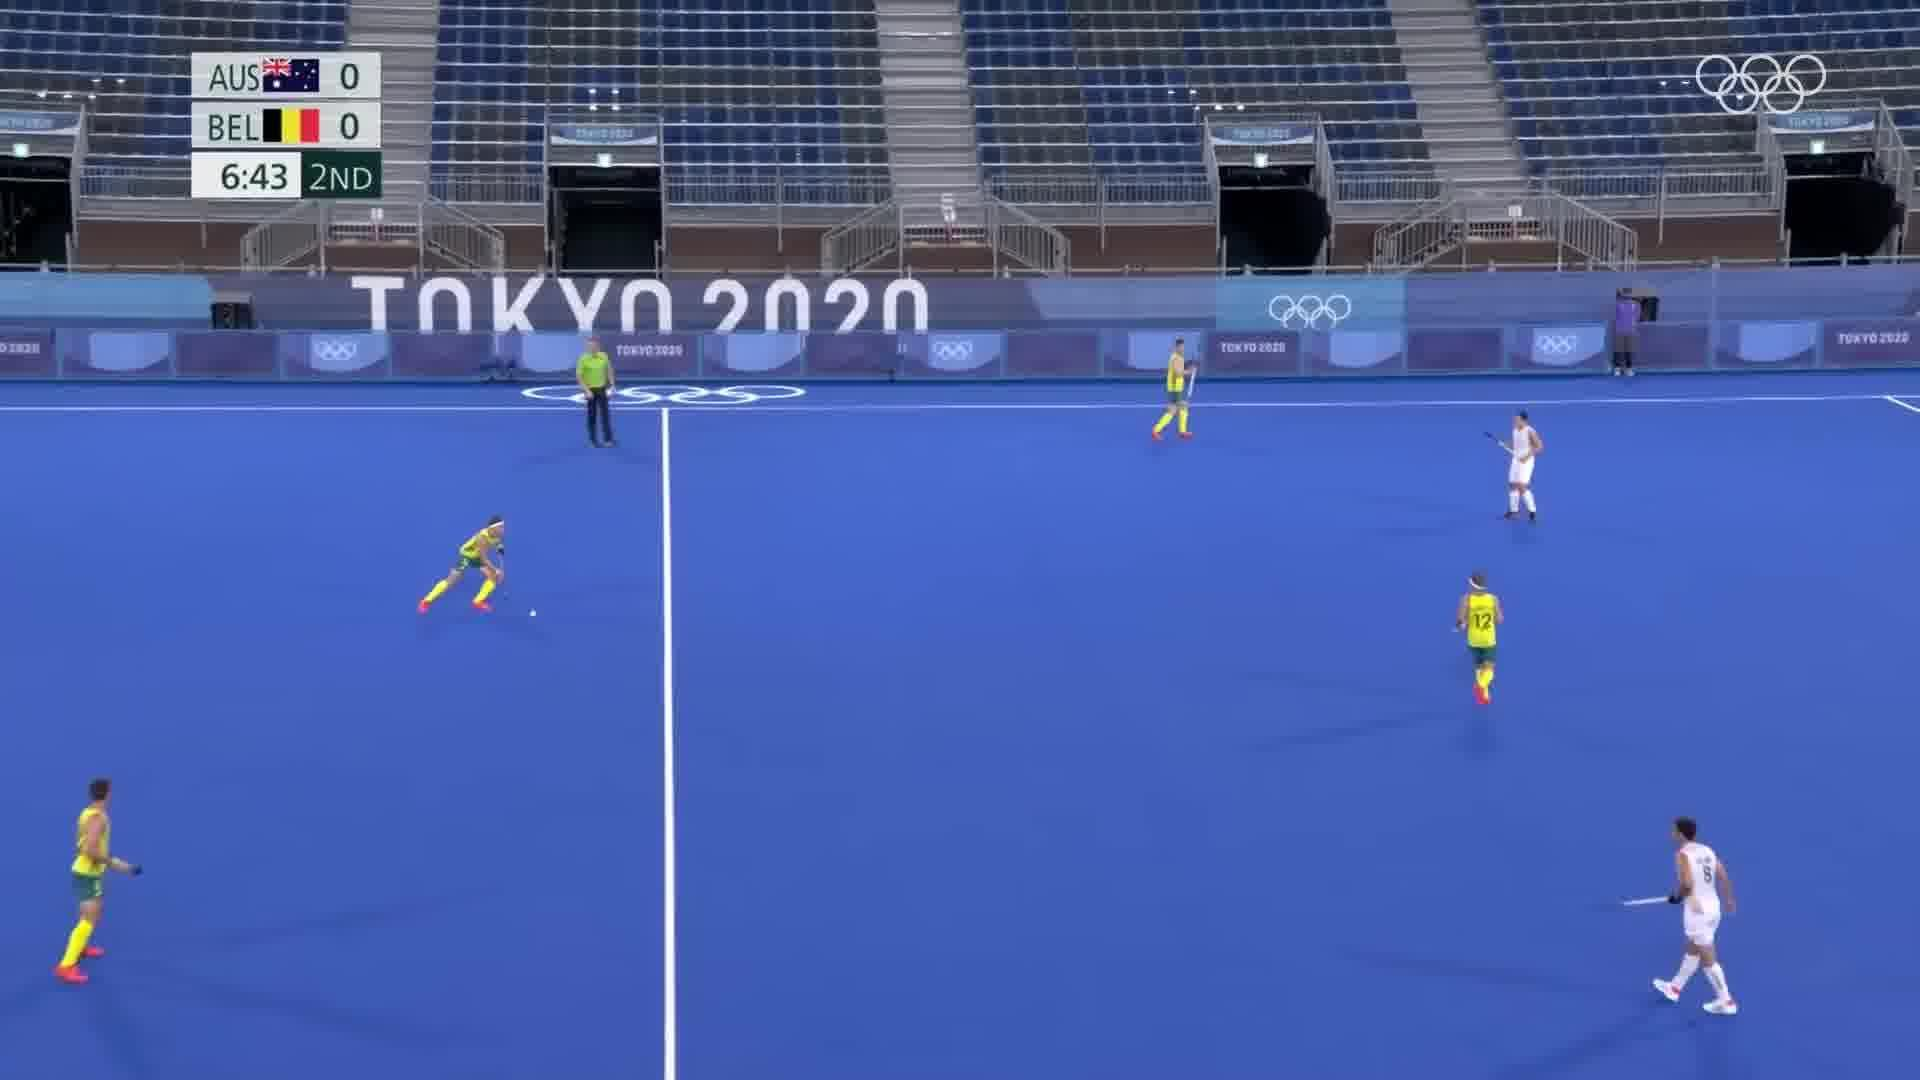ball: (522, 605, 541, 626)
